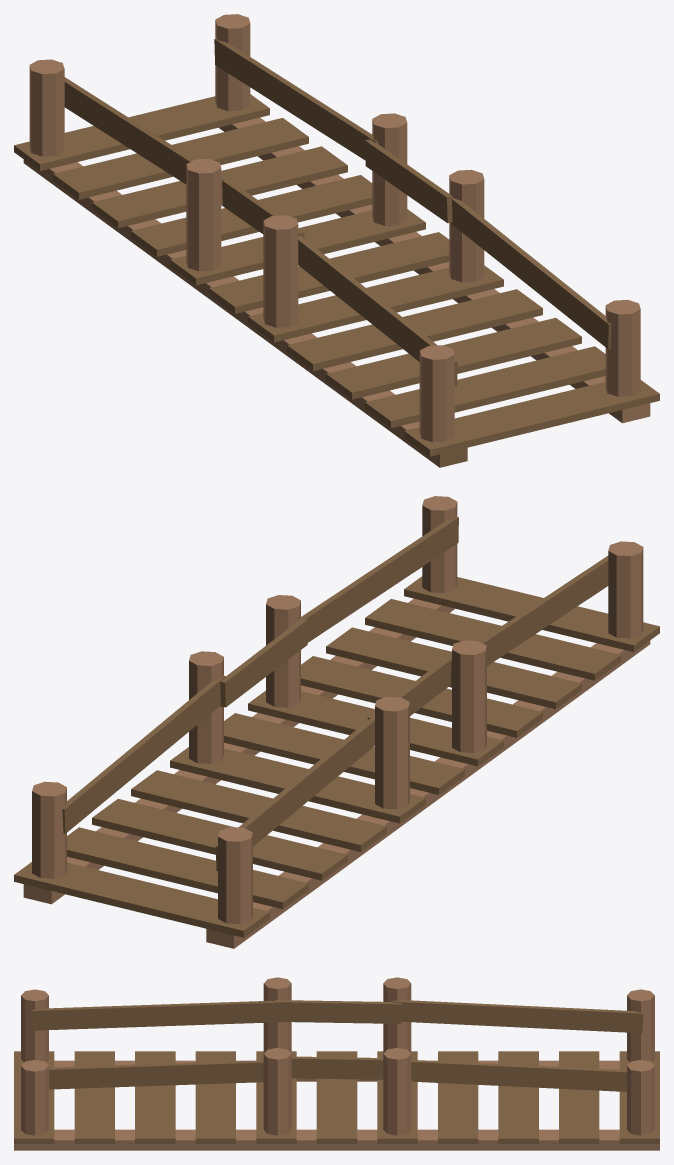
The model's file is Pasarela.fbx.
3 views of the same model, one above another, from view 1: azimuth 30°, elevation 25°; view 2: azimuth 150°, elevation 25°; view 3: azimuth 270°, elevation 25° (orthographic). The views are drawn at different scales.
Parts seen in each view (by area): view 1: Cube, Cylinder, Cube.001; view 2: Cube, Cylinder, Cube.001; view 3: Cube, Cube.001, Cylinder.
Boxes of the visible parts, bbox=[...] form: Cube: bbox=[14, 94, 659, 467]; Cylinder: bbox=[29, 14, 640, 442]; Cube.001: bbox=[64, 38, 611, 386]; Cube: bbox=[14, 576, 659, 948]; Cylinder: bbox=[32, 496, 643, 924]; Cube.001: bbox=[62, 516, 608, 871]; Cube: bbox=[14, 1051, 659, 1150]; Cube.001: bbox=[31, 1000, 643, 1091]; Cylinder: bbox=[21, 977, 654, 1135].
Size of the model in its own units: 63.77 by 31.36 by 200.
